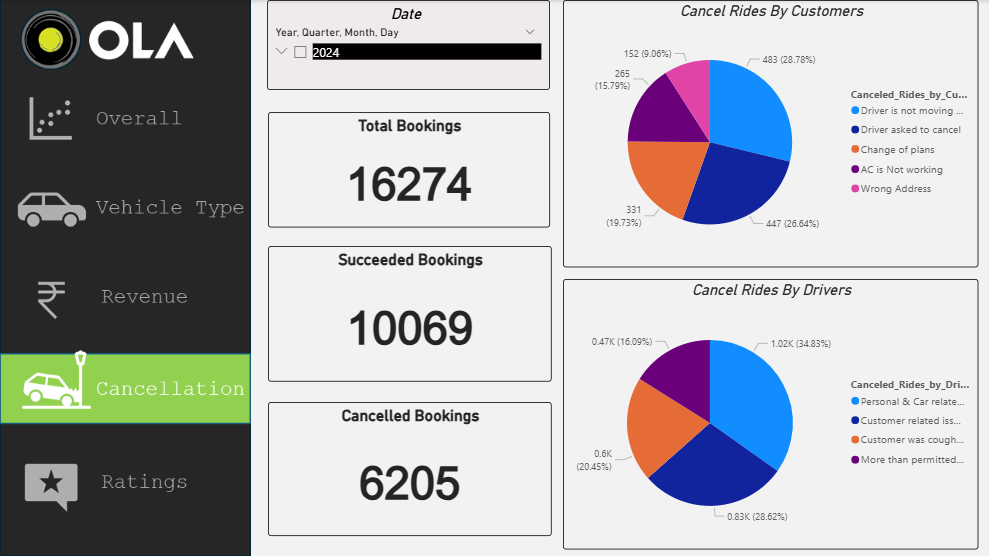

The dashboard page shown, as its layout file describes it:
{"tool":"powerbi","page":{"name":"Cancellation","canvas":[1280,720],"ordinal":3},"visuals":[{"type":"actionButton","box":[0,579.7,324.6,92.1],"z":0},{"type":"actionButton","box":[0,340.2,324.6,92.1],"z":1000},{"type":"actionButton","box":[0,225.4,324.6,92.1],"z":2000},{"type":"actionButton","box":[0,109.1,324.6,92.1],"z":3000},{"type":"pieChart","title":"Cancel Rides By Drivers","fields":{"Category":["Cleaning_Bookings-20000-Rows.Canceled_Rides_by_Driver"],"Y":["CountNonNull(Cleaning_Bookings-20000-Rows.Canceled_Rides_by_Driver)"]},"box":[725.9,360,536.2,349.5],"z":4000},{"type":"pieChart","title":"Cancel Rides By Customers","fields":{"Category":["Cleaning_Bookings-20000-Rows.Canceled_Rides_by_Customer"],"Y":["CountNonNull(Cleaning_Bookings-20000-Rows.Canceled_Rides_by_Customer)"]},"box":[725.9,0,536.2,345],"z":5000},{"type":"slicer","title":"Date","fields":{"Values":["Cleaning_Bookings-20000-Rows.Date.Variation.Date Hierarchy.Year","Cleaning_Bookings-20000-Rows.Date.Variation.Date Hierarchy.Quarter","Cleaning_Bookings-20000-Rows.Date.Variation.Date Hierarchy.Month","Cleaning_Bookings-20000-Rows.Date.Variation.Date Hierarchy.Day"]},"box":[344.4,0,364.5,115.9],"z":6000},{"type":"card","title":"Succeeded Bookings","fields":{"Values":["Count(Cleaning_Bookings-20000-Rows.Booking_ID)"]},"box":[345.5,317.7,366,174.6],"z":7000},{"type":"card","title":"Total Bookings","fields":{"Values":["Count(Cleaning_Bookings-20000-Rows.Booking_ID)"]},"box":[345.5,144.9,364.1,148.6],"z":8000},{"type":"card","title":"Cancelled Bookings","fields":{"Values":["Count(Cleaning_Bookings-20000-Rows.Booking_ID)"]},"box":[345.5,518.3,366,172.8],"z":9000}]}

Visuals, with their boxes on the page's 1280x720 design canvas (x1, y1, x2, y2). These are canvas units, not pixel positions in the 989x556 screenshot, which may show the page scaled, cropped or inside an application window:
actionButton: rect(0, 580, 325, 672)
actionButton: rect(0, 340, 325, 432)
actionButton: rect(0, 225, 325, 318)
actionButton: rect(0, 109, 325, 201)
"Cancel Rides By Drivers" pieChart: rect(726, 360, 1262, 710)
"Cancel Rides By Customers" pieChart: rect(726, 0, 1262, 345)
"Date" slicer: rect(344, 0, 709, 116)
"Succeeded Bookings" card: rect(346, 318, 712, 492)
"Total Bookings" card: rect(346, 145, 710, 294)
"Cancelled Bookings" card: rect(346, 518, 712, 691)
